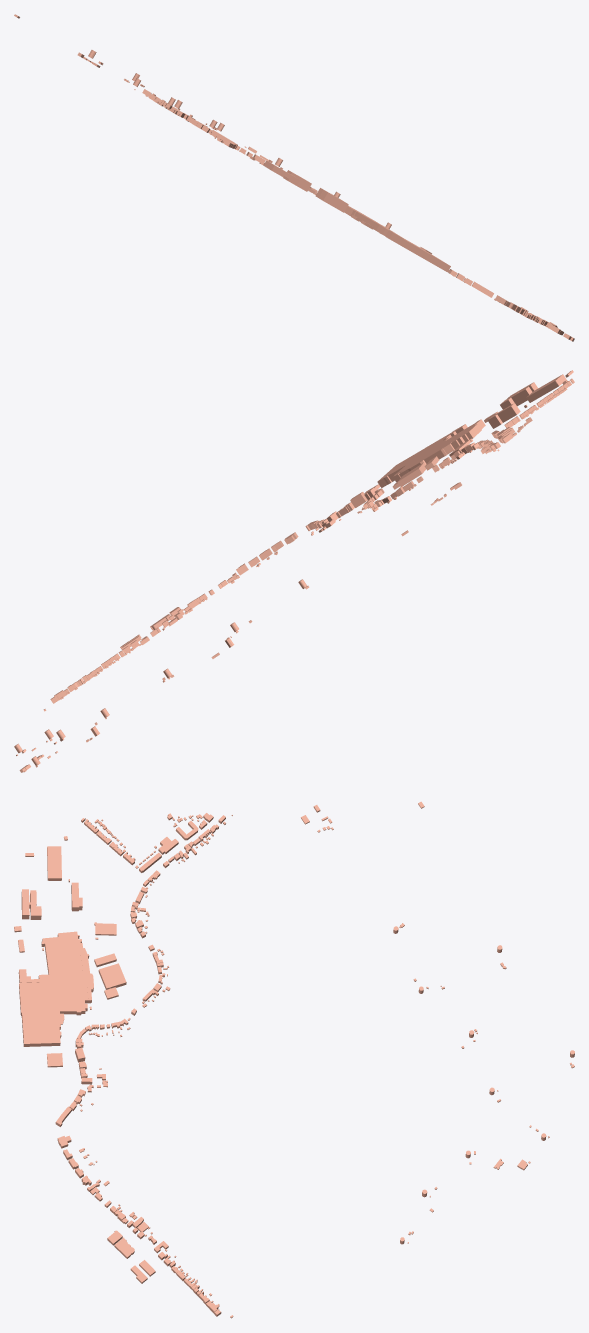
3 renders of one model, top to bottom at view 1: azimuth 30°, elevation 25°; view 2: azimuth 150°, elevation 25°; view 3: azimuth 270°, elevation 25°, orthographic. The views are drawn at different scales.
Size of the model in its own units: 991 by 751 by 1188.
